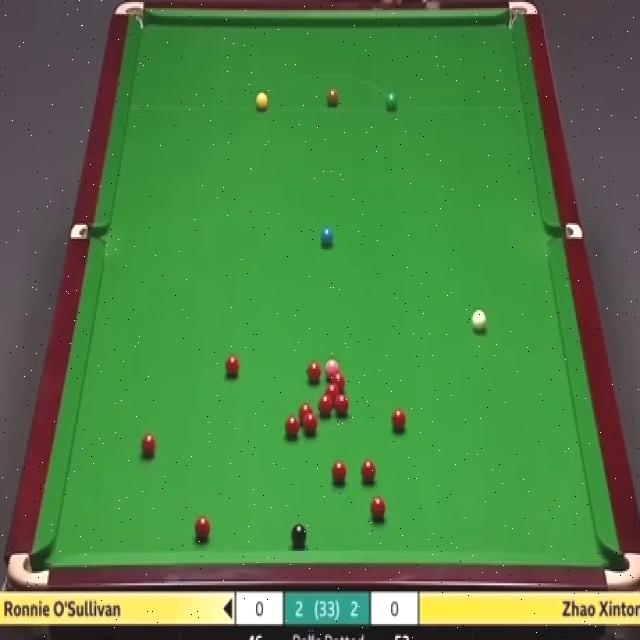black-ball: (289, 521, 307, 545)
blue-ball: (320, 228, 334, 245)
brown-ball: (327, 88, 339, 106)
green-ball: (384, 90, 399, 112)
pink-ball: (321, 360, 338, 375)
red-ball: (194, 517, 210, 545), (391, 405, 406, 432), (141, 433, 157, 458), (369, 495, 384, 520), (318, 394, 333, 418), (304, 410, 319, 434), (224, 354, 239, 378), (333, 463, 347, 487), (360, 458, 374, 481), (285, 418, 300, 438), (334, 391, 348, 411), (323, 383, 338, 401), (308, 361, 320, 382), (330, 373, 344, 390)
white-ball: (470, 310, 487, 332)
yellow-ball: (256, 91, 268, 112)
